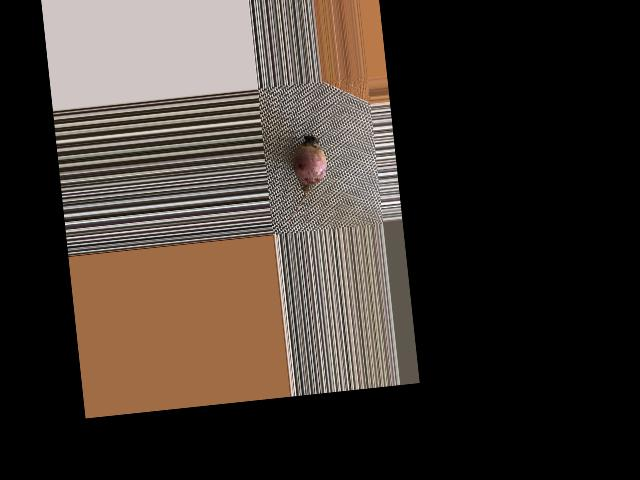beet: (276, 131, 331, 223)
